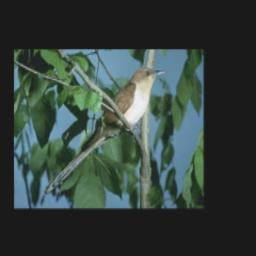Cuckoo: (43, 65, 168, 198)
